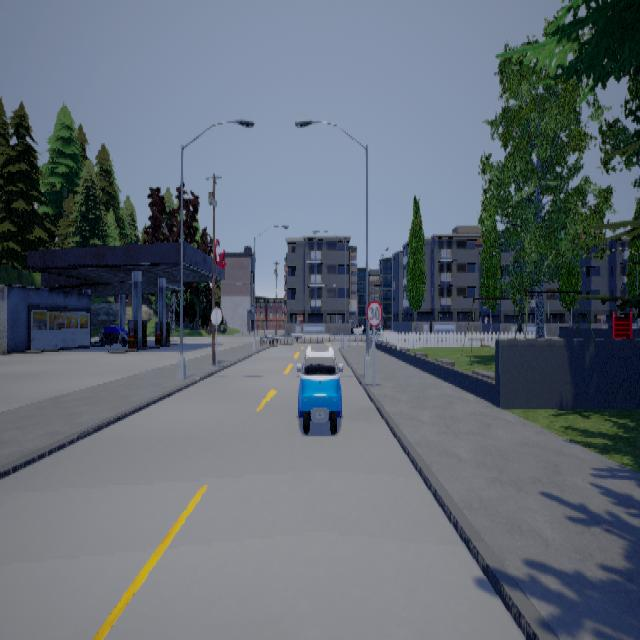traffic_sign: (365, 298, 381, 325)
vehicle: (295, 342, 347, 433)
